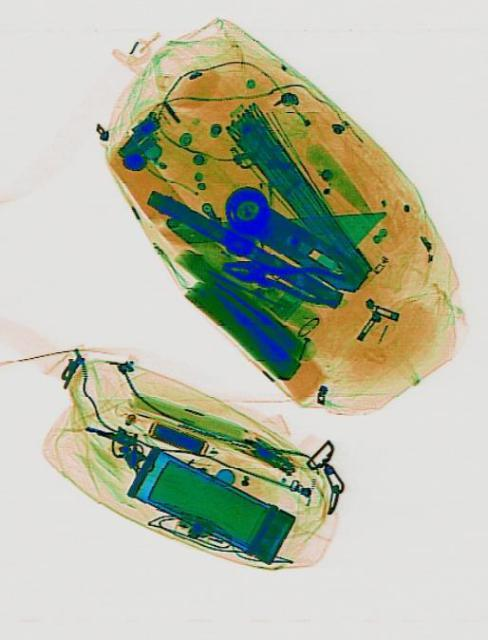Pliers: (217, 244, 343, 308)
